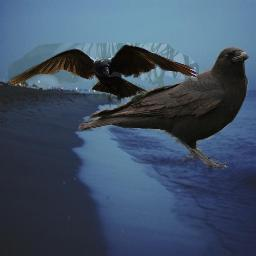Crow: (78, 46, 249, 170), (8, 43, 199, 109)
